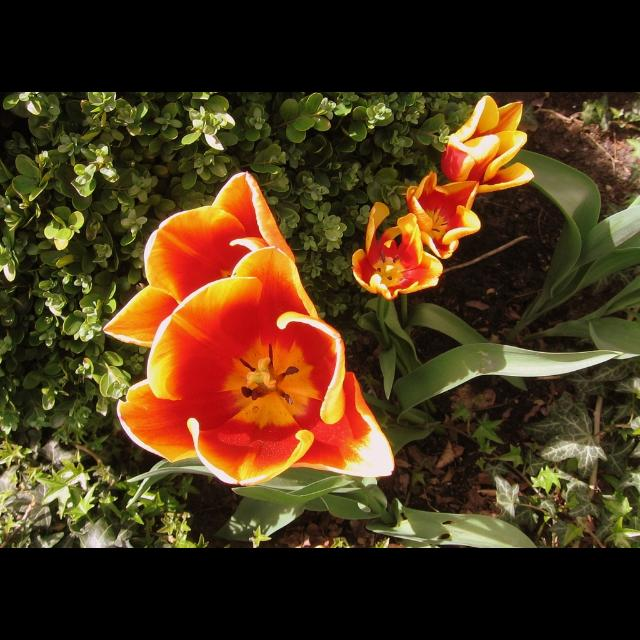Flower: (104, 171, 396, 485), (350, 96, 536, 300)
